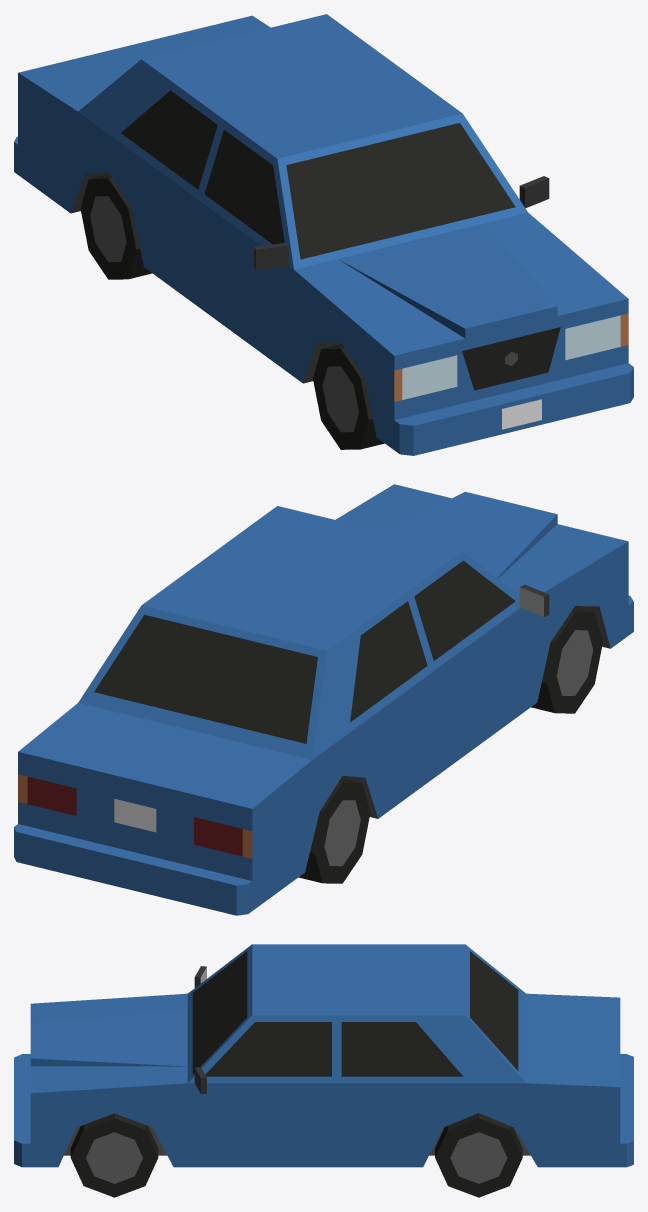
The model's file is Veh_Sedan_02_Blue.glb.
3 views of the same model, one above another, from view 1: azimuth 30°, elevation 25°; view 2: azimuth 150°, elevation 25°; view 3: azimuth 270°, elevation 25° (orthographic). The views are drawn at different scales.
Parts seen in each view (by area): view 1: Sedan_02_Blue, Wheel_FR, Wheel_RR; view 2: Sedan_02_Blue, Wheel_FR, Wheel_RR; view 3: Sedan_02_Blue, Wheel_FL, Wheel_RL.
Part boxes in pixels (x1,y1,x2,y2): Sedan_02_Blue: [14, 14, 633, 455]; Wheel_FR: [313, 344, 384, 449]; Wheel_RR: [80, 174, 152, 279]; Sedan_02_Blue: [14, 484, 633, 915]; Wheel_FR: [531, 608, 602, 713]; Wheel_RR: [298, 778, 370, 883]; Sedan_02_Blue: [14, 944, 633, 1167]; Wheel_FL: [70, 1113, 158, 1197]; Wheel_RL: [435, 1113, 522, 1197].
Size of the model in its own units: 1.16 by 0.8379 by 2.72.
Materials: 1 (1 with a texture image).
